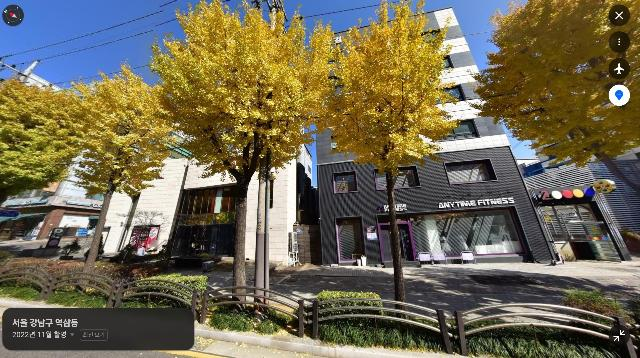ginkgo: (147, 0, 341, 315), (312, 0, 468, 314), (472, 0, 640, 201), (59, 58, 189, 283)
